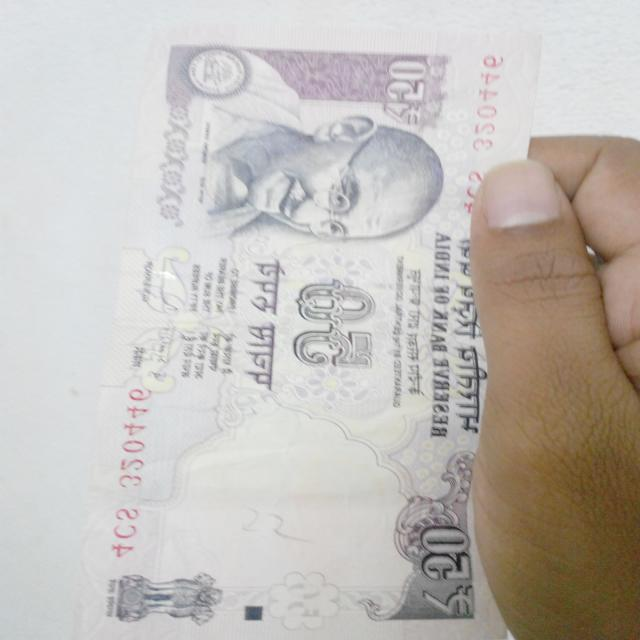50rs: (58, 16, 542, 640)
